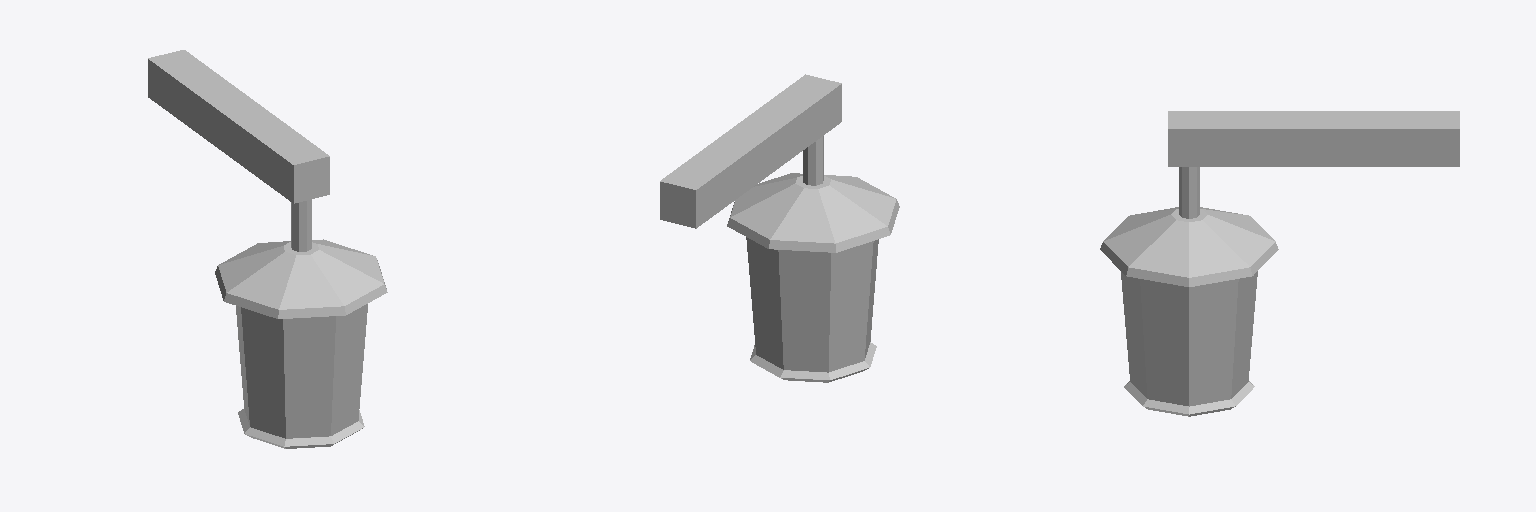
The model's file is Lamp.obj.
The picture shows the model from 3 angles: view 1: azimuth 30°, elevation 25°; view 2: azimuth 150°, elevation 25°; view 3: azimuth 270°, elevation 25°; orthographic projection.
Visible parts, largest first — view 1: Cylinder; view 2: Cylinder; view 3: Cylinder.
Part boxes in pixels (x1,y1,x2,y2): Cylinder: (148, 50, 387, 448); Cylinder: (660, 74, 899, 382); Cylinder: (1100, 111, 1459, 416).
Size of the model in its own units: 0.8858 by 1.49 by 1.78.